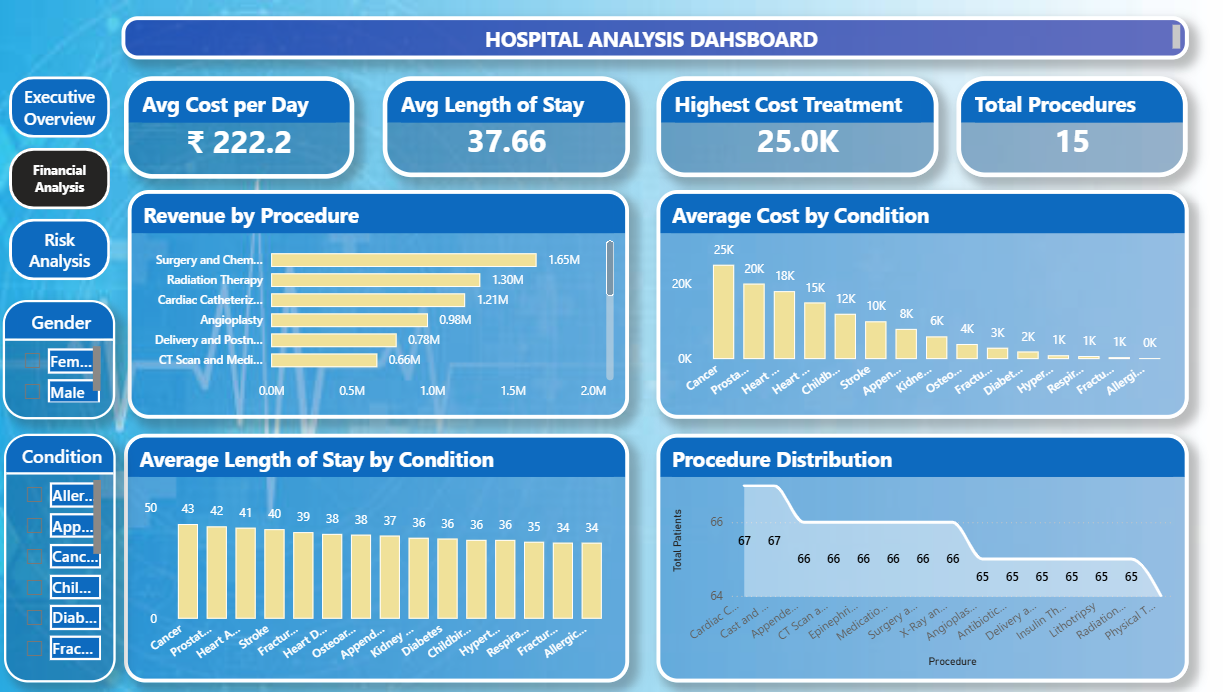

This screenshot's page, from the dashboard's own definition file:
{"tool":"powerbi","page":{"name":"Financial Analysis","canvas":[1280,720],"ordinal":1},"visuals":[{"type":"textbox","box":[126.7,17.3,1108.8,44.6],"z":0},{"type":"card","title":"Avg Cost per Day","fields":{"Values":["hospital data analysis.Average Cost Per Day"]},"box":[129.6,79.2,239,106.6],"z":1000},{"type":"card","title":"Avg Length of Stay","fields":{"Values":["hospital data analysis.Avg Length of Stay"]},"box":[398.1,79.6,257,105],"z":2000},{"type":"card","title":"Total Procedures ","fields":{"Values":["hospital data analysis.Total Procedures"]},"box":[995.3,79.6,240.1,105],"z":3000},{"type":"card","title":"Highest Cost Treatment","fields":{"Values":["hospital data analysis.Highest Cost Treatment"]},"box":[682.8,79.6,293.2,105],"z":4000},{"type":"clusteredBarChart","title":"Revenue by Procedure","fields":{"Y":["Sum(hospital data analysis.Cost)"],"Category":["hospital data analysis.Procedure"]},"box":[133.9,197.9,521.2,237.7],"z":5000},{"type":"columnChart","title":"Average Cost by Condition","fields":{"Category":["hospital data analysis.Condition"],"Y":["Avg(hospital data analysis.Cost)"]},"box":[682.8,197.9,552.5,237.7],"z":6000},{"type":"stackedAreaChart","title":"Procedure Distribution","fields":{"Category":["hospital data analysis.Procedure"],"Y":["hospital data analysis.Total Patients"]},"box":[682.8,451.2,552.5,258.2],"z":7000},{"type":"pageNavigator","box":[10.1,79.2,105.1,213.1],"z":8000},{"type":"columnChart","title":"Average Length of Stay by Condition","fields":{"Y":["hospital data analysis.Avg Length of Stay"],"Category":["hospital data analysis.Condition"]},"box":[130.3,451.2,524.8,258.2],"z":9000},{"type":"slicer","title":"Gender","fields":{"Values":["hospital data analysis.Gender"]},"box":[4.3,311,116.6,123.8],"z":10000},{"type":"slicer","title":"Condition","fields":{"Values":["hospital data analysis.Condition"]},"box":[4.8,451.2,115.8,258.2],"z":11000}]}

Visuals, with their boxes in screenshot pixels (x1, y1, x2, y2), scaled from the page's 1280x720 canvas onto the 1229x692 screenshot:
textbox: (left=122, top=17, right=1186, bottom=59)
"Avg Cost per Day" card: (left=124, top=76, right=354, bottom=179)
"Avg Length of Stay" card: (left=382, top=77, right=629, bottom=177)
"Total Procedures " card: (left=956, top=77, right=1186, bottom=177)
"Highest Cost Treatment" card: (left=656, top=77, right=937, bottom=177)
"Revenue by Procedure" clusteredBarChart: (left=129, top=190, right=629, bottom=419)
"Average Cost by Condition" columnChart: (left=656, top=190, right=1186, bottom=419)
"Procedure Distribution" stackedAreaChart: (left=656, top=434, right=1186, bottom=682)
pageNavigator: (left=10, top=76, right=111, bottom=281)
"Average Length of Stay by Condition" columnChart: (left=125, top=434, right=629, bottom=682)
"Gender" slicer: (left=4, top=299, right=116, bottom=418)
"Condition" slicer: (left=5, top=434, right=116, bottom=682)
